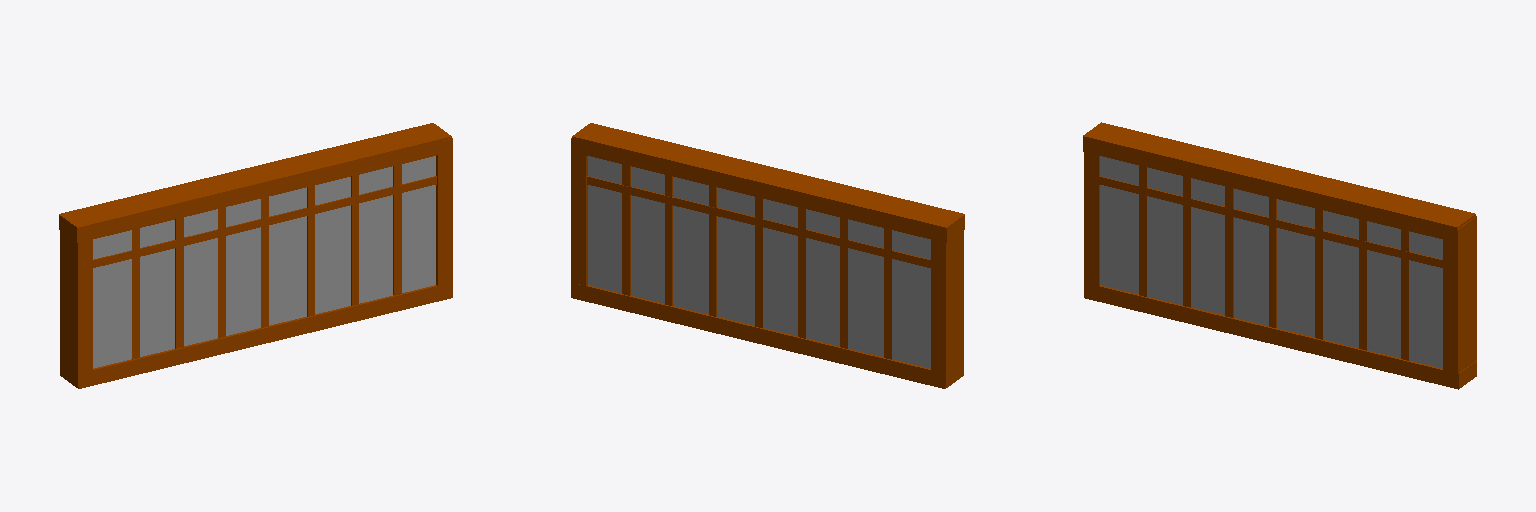
The model's file is fangliang.obj.
The picture shows the model from 3 angles: view 1: azimuth 30°, elevation 25°; view 2: azimuth 150°, elevation 25°; view 3: azimuth 330°, elevation 25°; orthographic projection.
Visible parts, largest first — view 1: fangliang_Cube.003; view 2: fangliang_Cube.003; view 3: fangliang_Cube.003.
Boxes of the visible parts, x1=… form: fangliang_Cube.003: x1=59, y1=123, x2=452, y2=388; fangliang_Cube.003: x1=571, y1=123, x2=964, y2=388; fangliang_Cube.003: x1=1083, y1=122, x2=1476, y2=389.
Bounding box in the file's own units: 5.06 × 2.08 × 0.437.